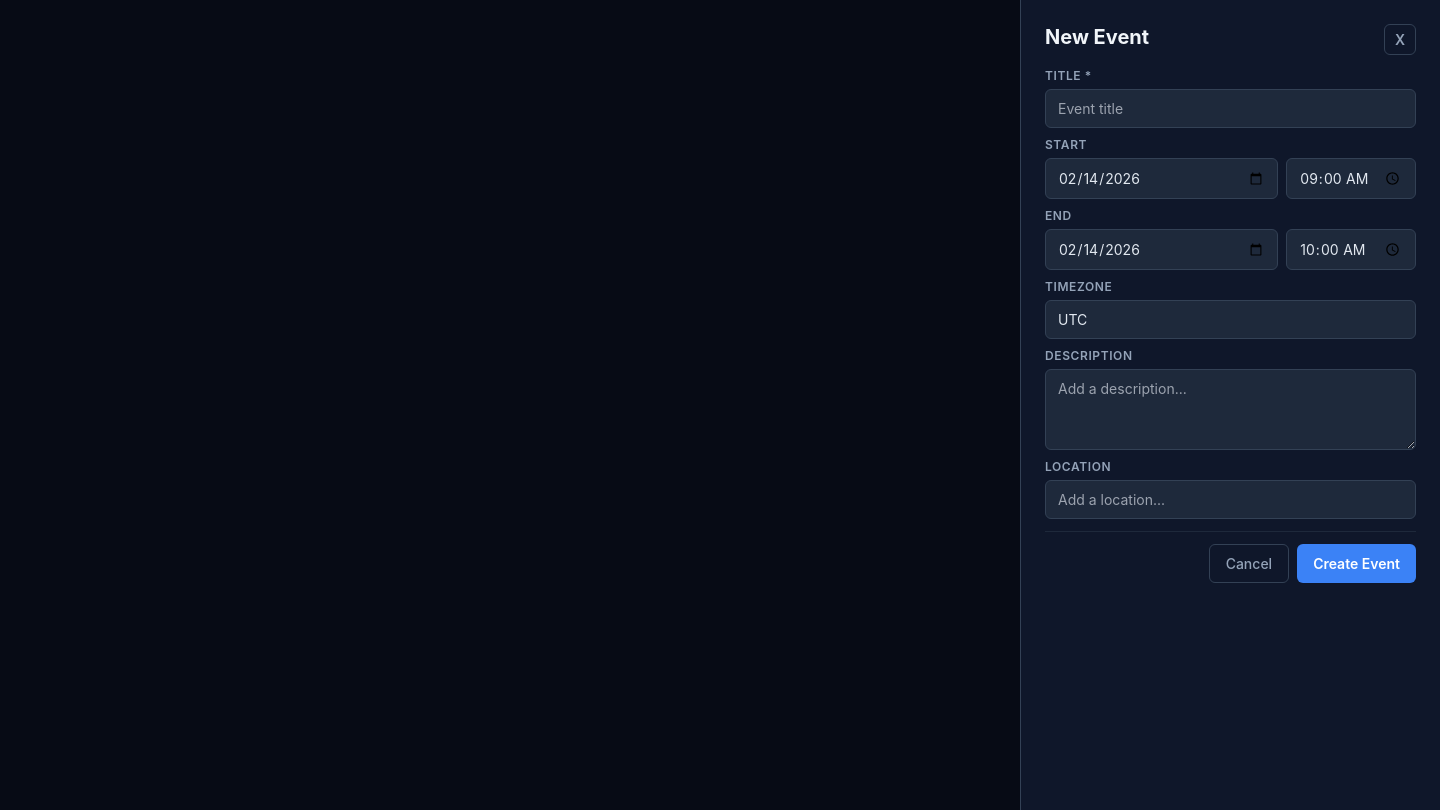
Test: EventCreateForm › validation › shows error when submitting with empty title
Click the button with test id "event-create-submit" at [1357, 564], box left=1297, top=544, right=1416, bottom=583
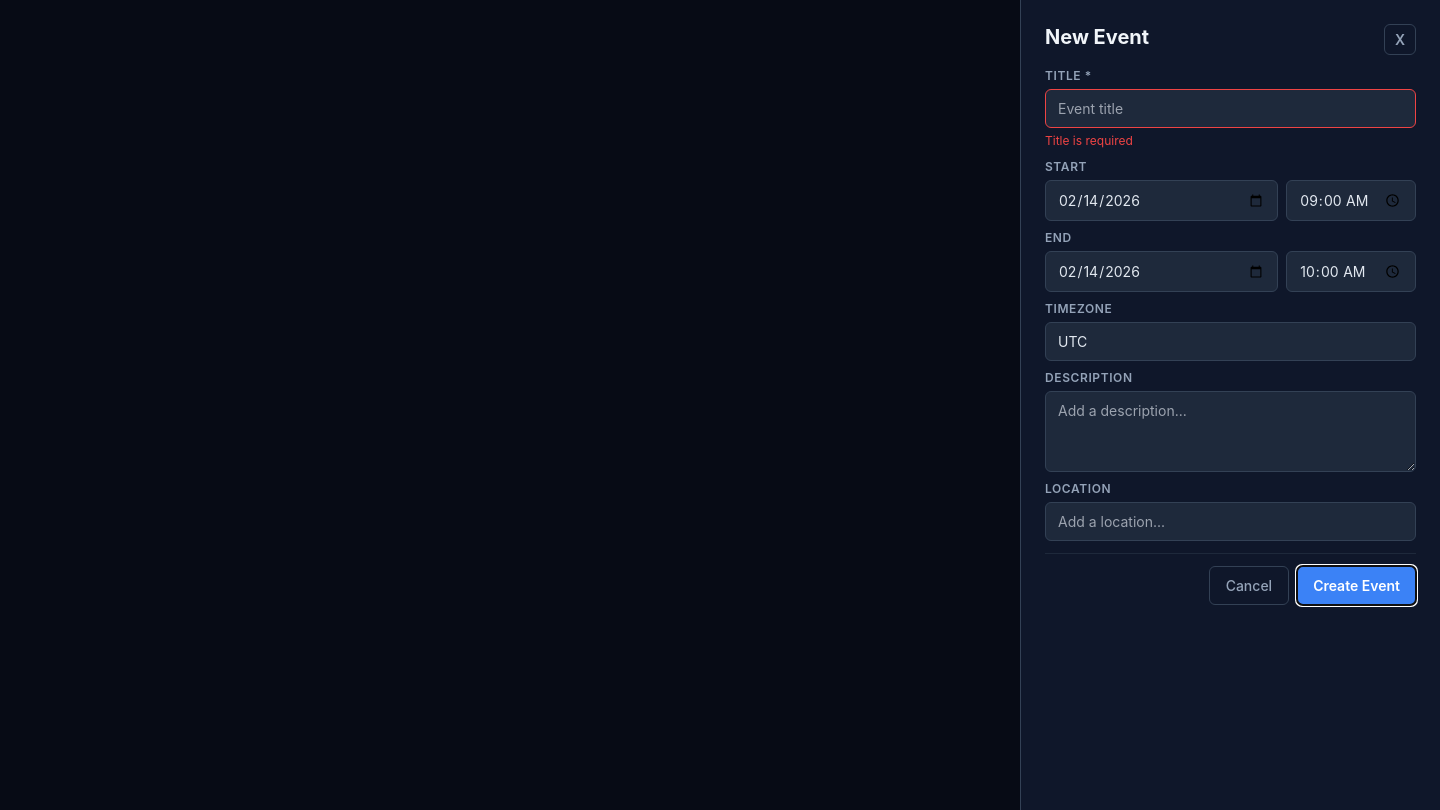
expect the text "Title is required" is shown: met, box left=1045, top=133, right=1133, bottom=148
